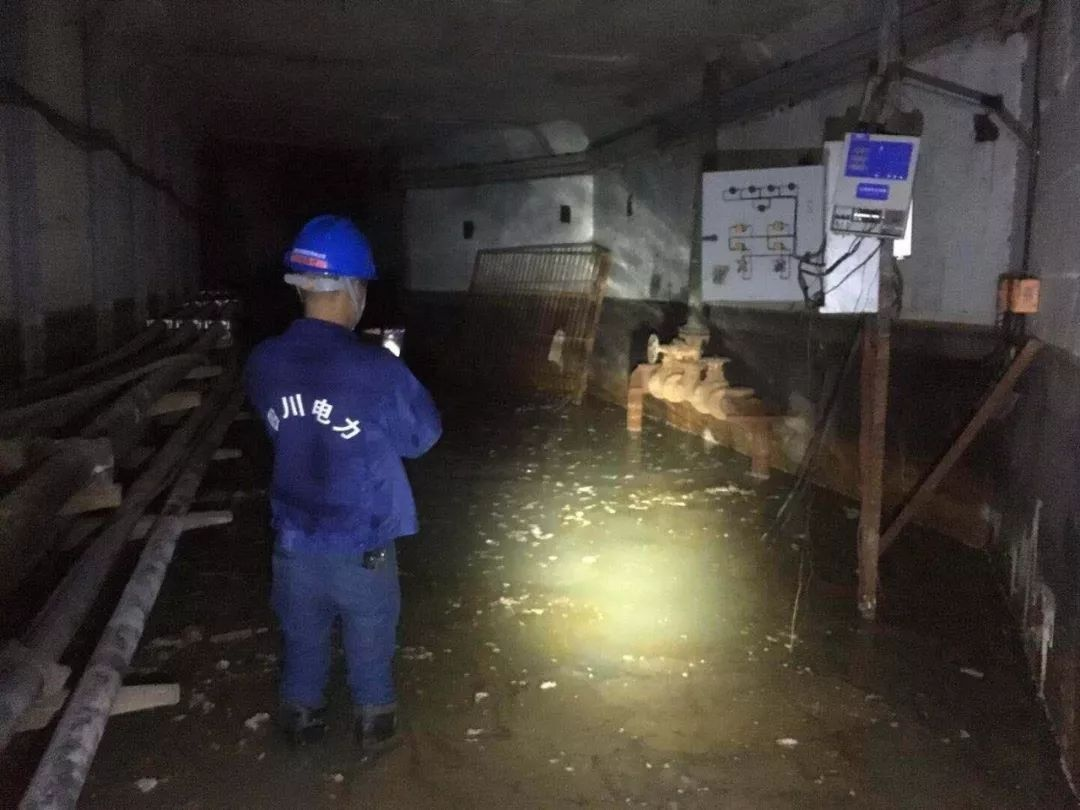blue: (292, 210, 375, 327)
